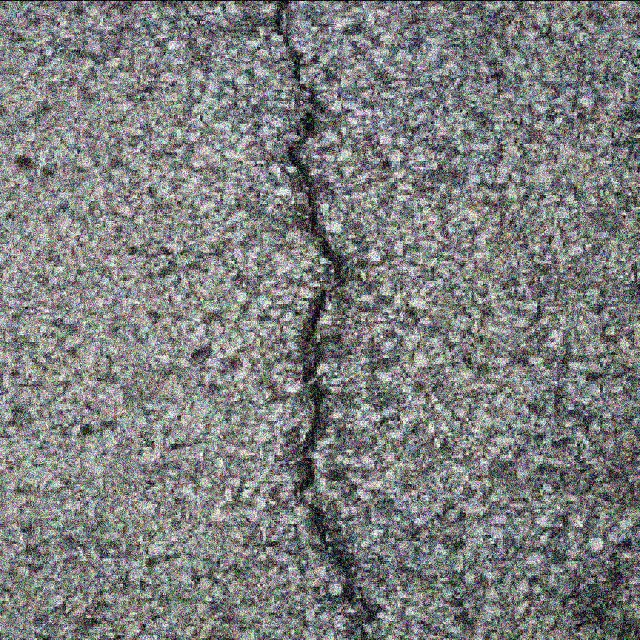SurfaceCrack: (230, 0, 406, 640)
